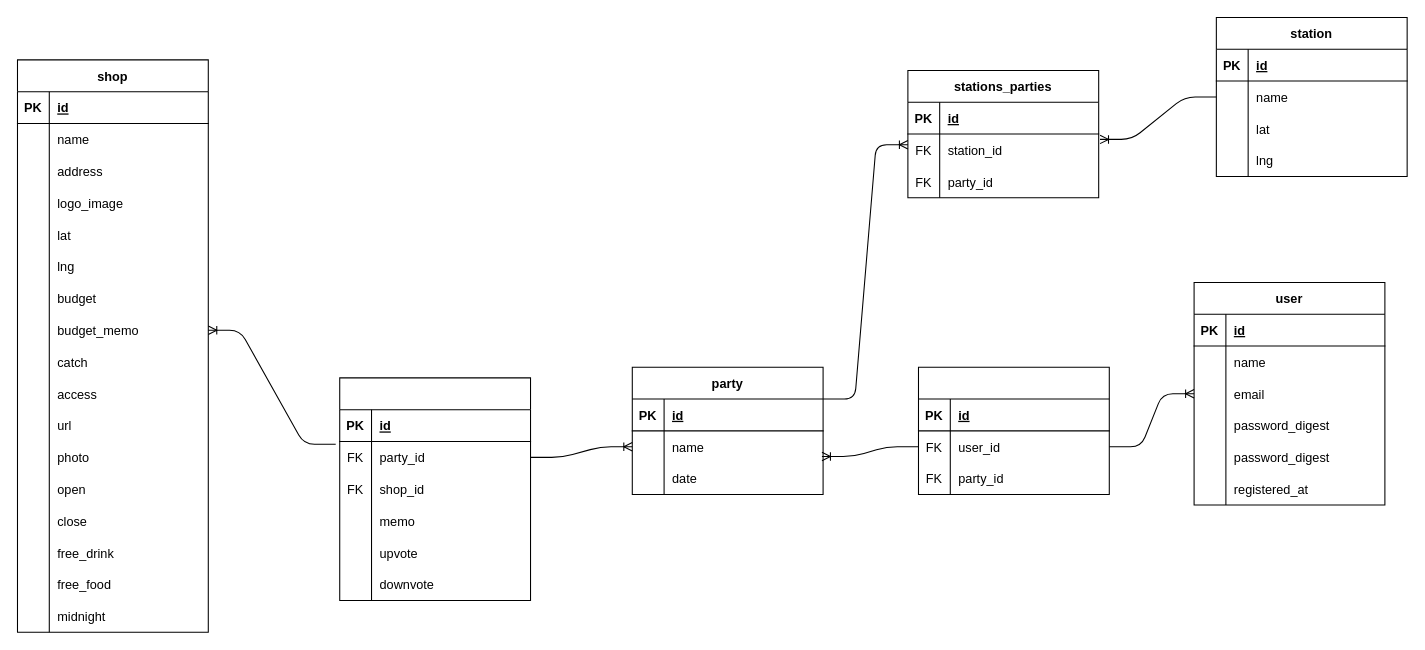
The diagram is 1425 pixels wide and 650 high, and some of its shapes have lost their labels. Each missing label, with the box of its shape:
parties_shops: (339, 377, 531, 600)
parties_users: (917, 366, 1109, 494)
